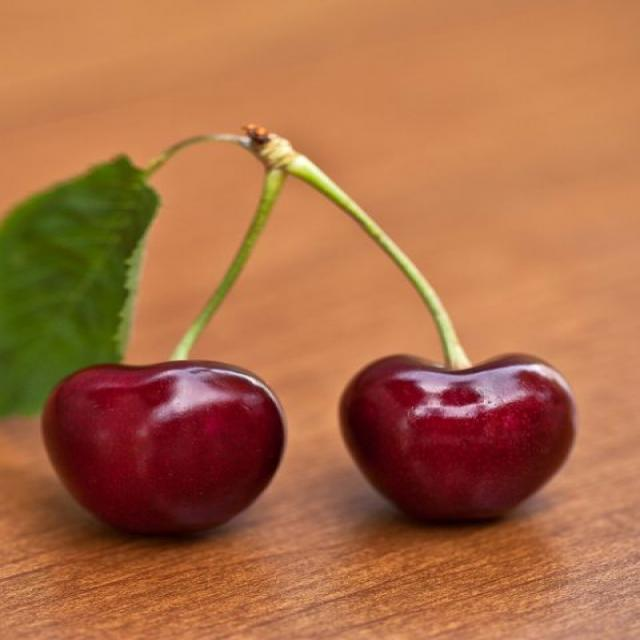cherry: (33, 128, 583, 544), (49, 134, 300, 544), (338, 157, 578, 534)
